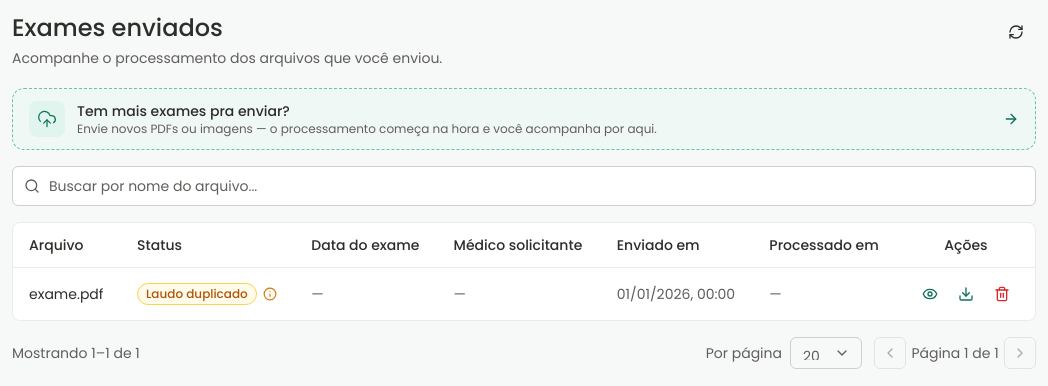
Scenario: SentExamsView — colunas de data do exame e médico solicitante › laudo duplicado: badge "Laudo duplicado" com o motivo no tooltip acessível por hover
Expected: the text "Laudo duplicado" is shown, x1=137 y1=283 x2=257 y2=305
Hover over the element with class "cursor-default" next to "Laudo duplicado": (270,294) x1=263 y1=287 x2=277 y2=301
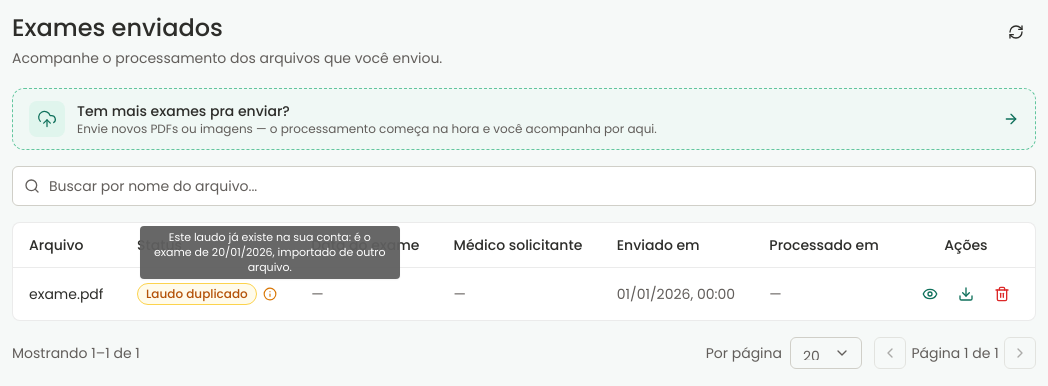
Now the tooltip shows "Este laudo já existe na sua conta: é o exame de 20/01/2026, importado de outro arquivo.", box x1=154 y1=229 x2=386 y2=275
